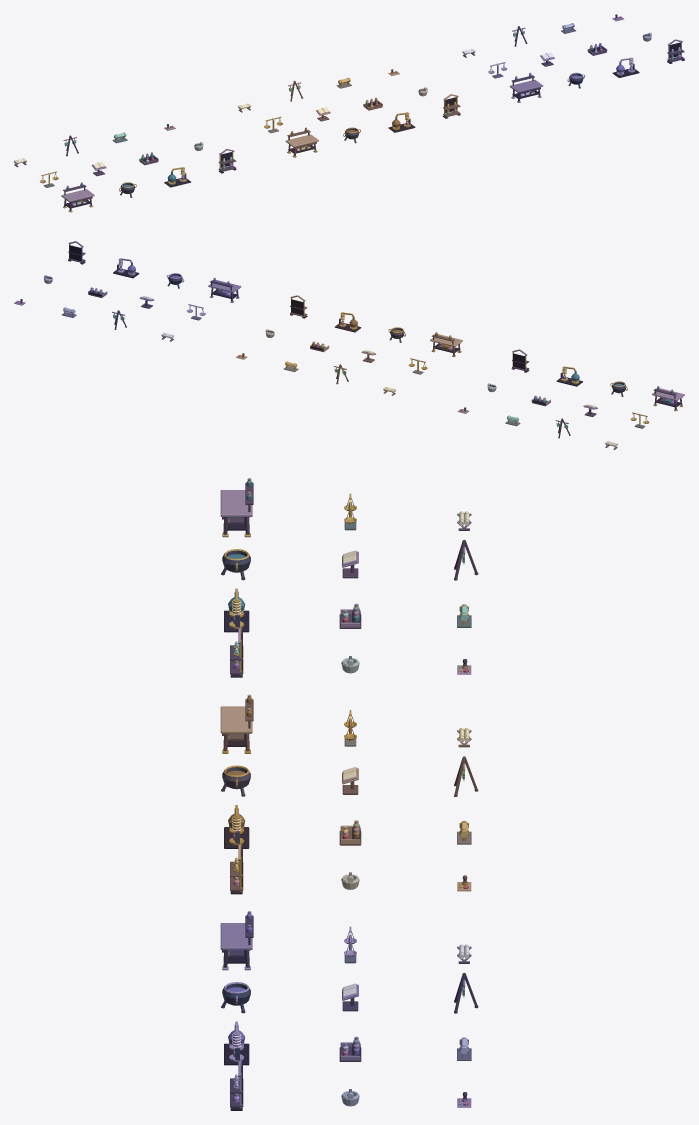
Rendered from moonwell-alchemy-native.glb.
3 renders of one model, top to bottom at view 1: azimuth 30°, elevation 25°; view 2: azimuth 150°, elevation 25°; view 3: azimuth 270°, elevation 25°, orthographic. The views are drawn at different scales.
Visible parts, largest first — view 1: Classic__01_Crescent_Workbench__Body, Twilight__01_Crescent_Workbench__Body, Warm__01_Crescent_Workbench__Body, Classic__04_Specimen_Stand__Body, Twilight__04_Specimen_Stand__Body, Warm__04_Specimen_Stand__Body; view 2: Classic__01_Crescent_Workbench__Body, Twilight__01_Crescent_Workbench__Body, Warm__01_Crescent_Workbench__Body; view 3: Warm__01_Crescent_Workbench__Body, Twilight__01_Crescent_Workbench__Body, Classic__01_Crescent_Workbench__Body.
Part boxes in pixels (<box>): Classic__01_Crescent_Workbench__Body: <box>61,182,94,212</box>; Twilight__01_Crescent_Workbench__Body: <box>509,72,543,102</box>; Warm__01_Crescent_Workbench__Body: <box>285,127,318,157</box>; Classic__04_Specimen_Stand__Body: <box>218,149,236,173</box>; Twilight__04_Specimen_Stand__Body: <box>667,39,684,63</box>; Warm__04_Specimen_Stand__Body: <box>442,94,460,118</box>; Classic__01_Crescent_Workbench__Body: <box>652,386,684,411</box>; Twilight__01_Crescent_Workbench__Body: <box>208,277,241,302</box>; Warm__01_Crescent_Workbench__Body: <box>430,332,462,357</box>; Warm__01_Crescent_Workbench__Body: <box>220,694,253,753</box>; Twilight__01_Crescent_Workbench__Body: <box>220,911,253,970</box>; Classic__01_Crescent_Workbench__Body: <box>220,478,253,537</box>.
Size of the model in its own units: 99.28 by 3.25 by 18.12.
Materials: 3 (3 with a texture image).
